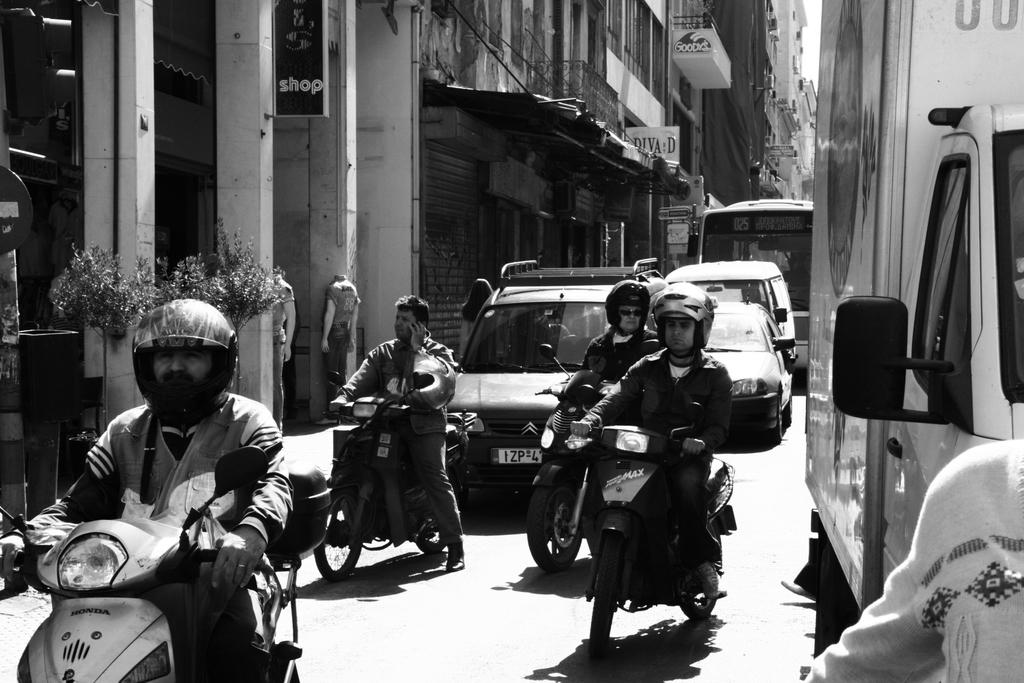helmet: (132, 299, 240, 423), (653, 282, 714, 349), (401, 353, 457, 411), (605, 279, 650, 332)
nohelmet: (393, 294, 431, 344)
